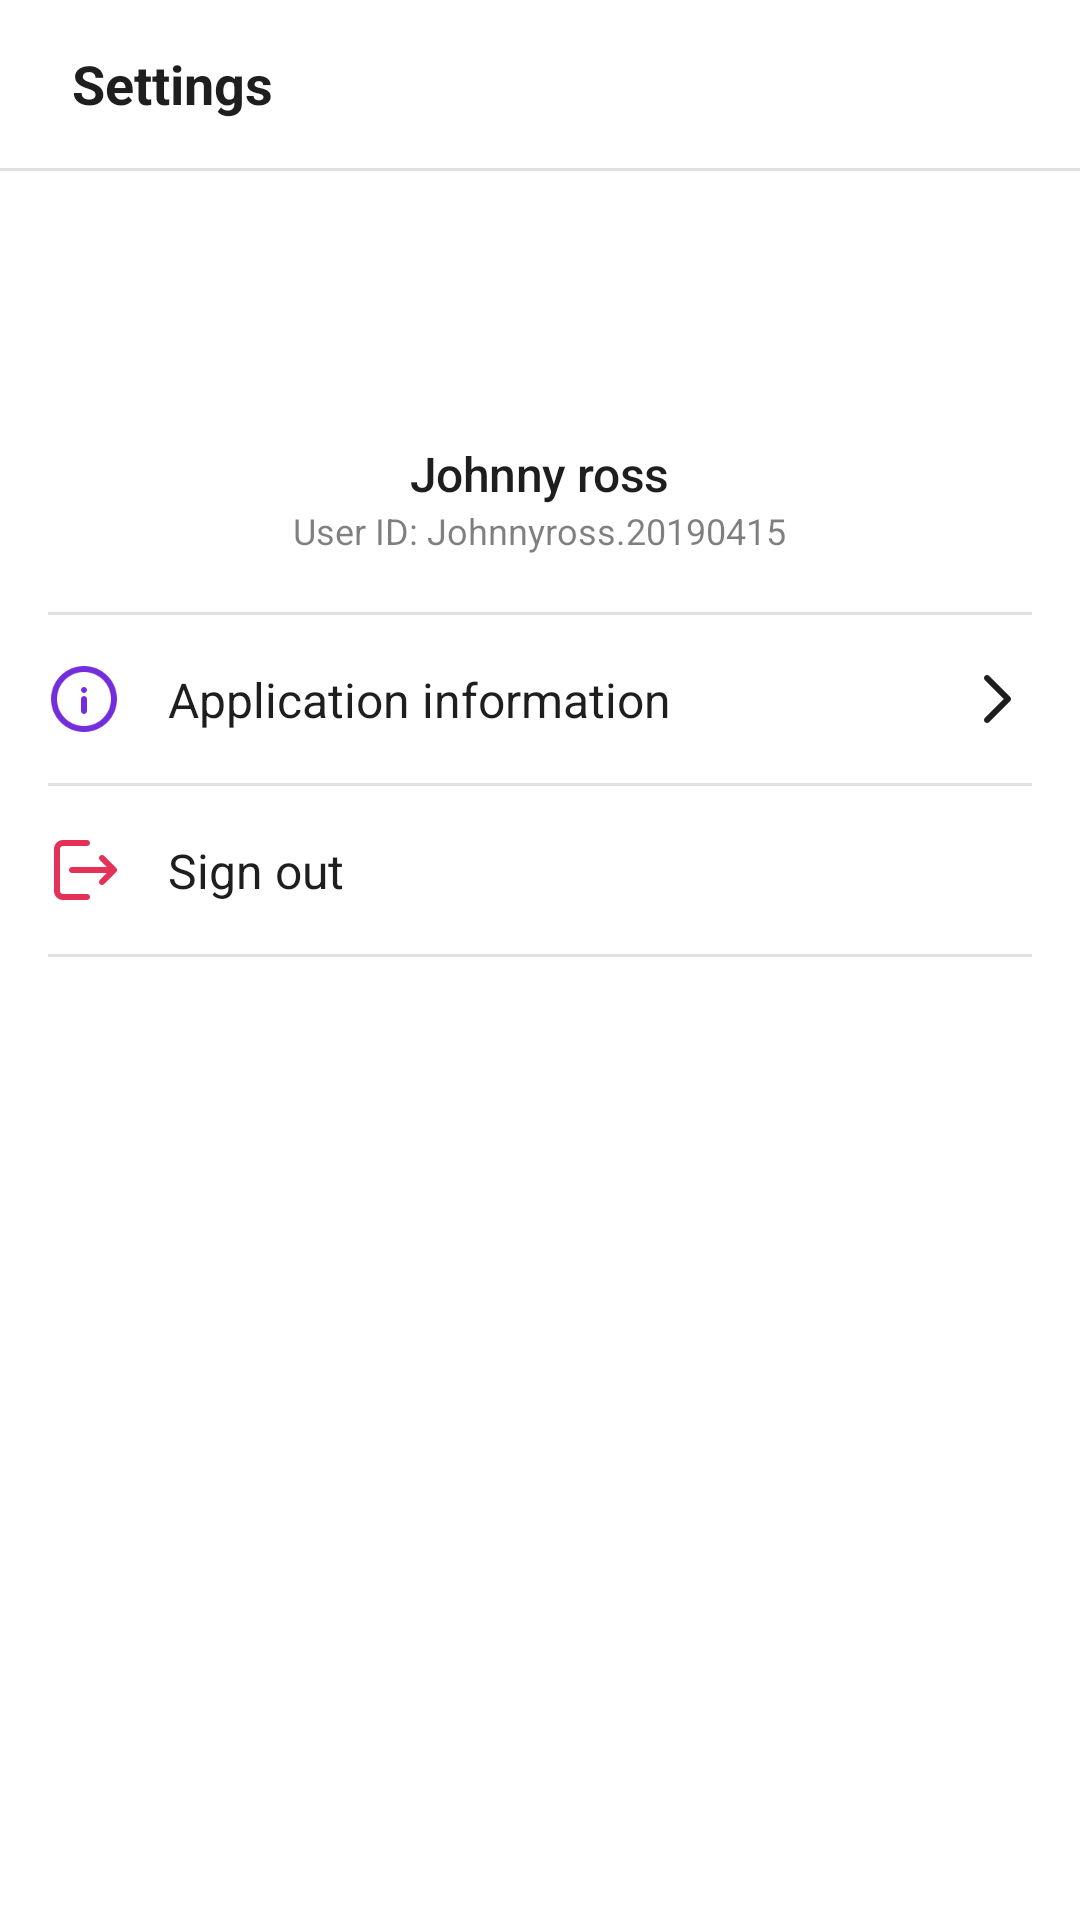

Icon bounding boxes for this 1080*1920 phone screenshot, format (x1, y1, x2, y2):
chevron right: (984, 675, 1011, 723)
leave: (54, 840, 117, 900)
